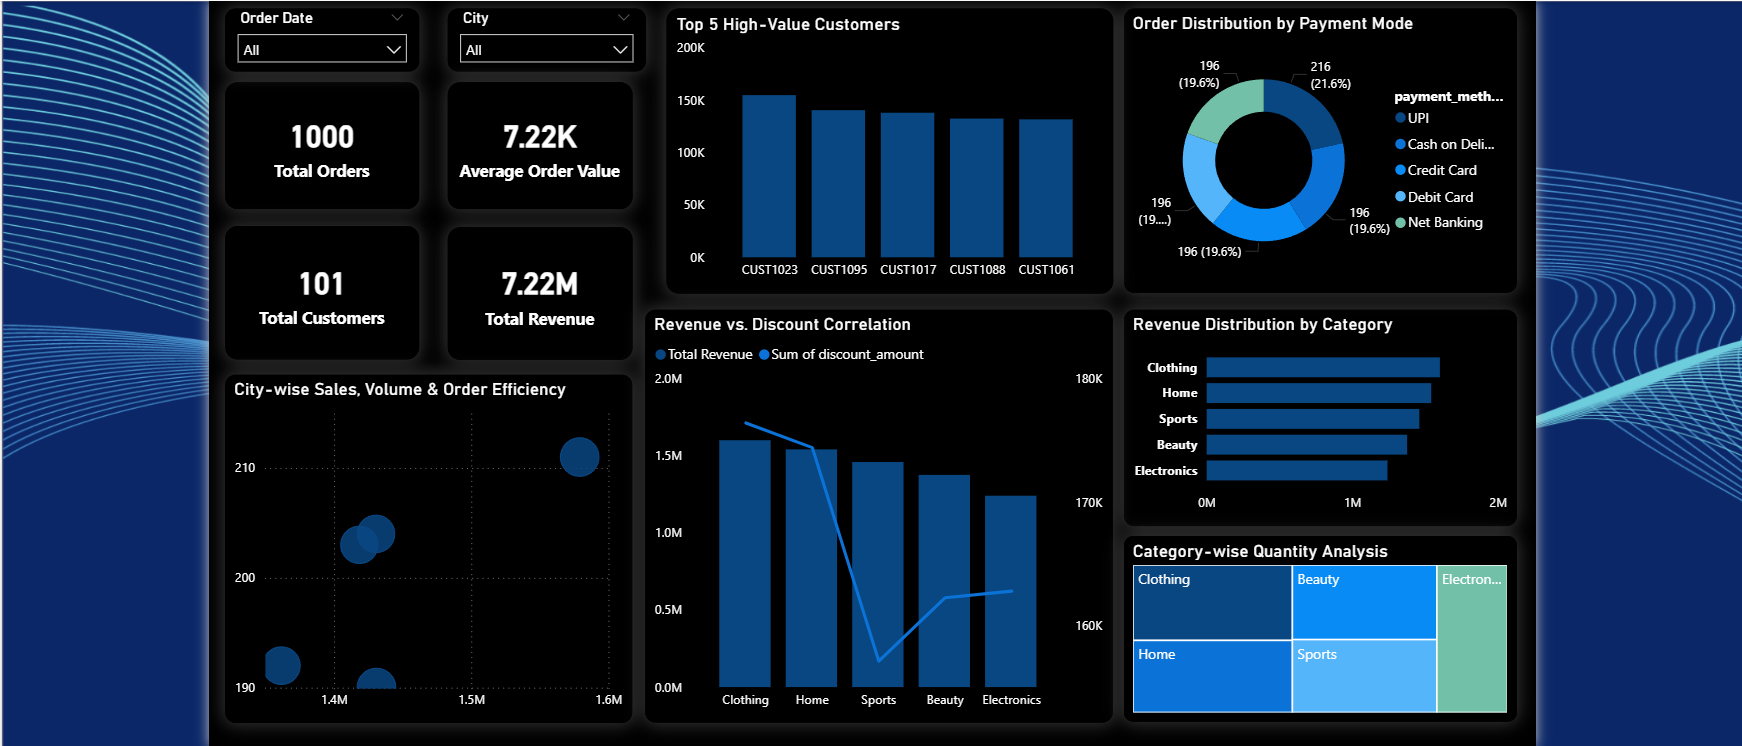

Layout of this report page (visuals, bound fields, positions):
{"tool":"powerbi","page":{"name":"Page 1","canvas":[1280,720],"ordinal":0},"visuals":[{"type":"card","fields":{"Values":["Orders.total_revenue"]},"box":[230,218.6,178.2,127.6],"z":0},{"type":"card","fields":{"Values":["Orders.total_orders"]},"box":[15.2,78.4,187,122.6],"z":1000},{"type":"card","fields":{"Values":["Orders.total_customers"]},"box":[15.2,217.4,187,128.9],"z":2000},{"type":"barChart","title":"Revenue Distribution by Category","fields":{"Category":["Orders.product_category"],"Y":["Sum(Orders.final_amount)"]},"box":[883.4,298.3,379.1,208.5],"z":3000},{"type":"scatterChart","title":"City-wise Sales, Volume & Order Efficiency","fields":{"X":["All_Measure.Total Revenue"],"Category":["Orders.city"],"Y":["All_Measure.Total Orders"],"Size":["All_Measure.Average Order Value"]},"box":[15.2,360.2,393.1,336.2],"z":4000},{"type":"donutChart","title":"Order Distribution by Payment Mode","fields":{"Category":["Orders.payment_method"],"Y":["All_Measure.total_orders"]},"box":[883.4,7.6,379.1,274.3],"z":5000},{"type":"columnChart","title":"Top 5 High-Value Customers","fields":{"Category":["Orders.customer_id"],"Y":["All_Measure.Customer_Spend"]},"box":[441.1,7.6,431,275.5],"z":6000},{"type":"slicer","fields":{"Values":["Orders.city"]},"box":[230,7.6,190.8,60.7],"z":7000},{"type":"lineStackedColumnComboChart","title":"Revenue vs. Discount Correlation","fields":{"Category":["Orders.product_category"],"Y":["All_Measure.Total Revenue"],"Y2":["Sum(Orders.discount_amount)"]},"box":[420.9,298.3,451.2,398.1],"z":8000},{"type":"slicer","fields":{"Values":["Orders.order_date"]},"box":[15.2,7.6,187,60.7],"z":9000},{"type":"card","fields":{"Values":["All_Measure.Average Order Value"]},"box":[230,78.4,178.2,122.6],"z":10000},{"type":"treemap","title":"Category-wise Quantity Analysis","fields":{"Values":["Sum(Orders.quantity)"],"Group":["Orders.product_category"]},"box":[883.4,516.9,379.1,179.5],"z":11000}]}

Visuals, with their boxes on the page's 1280x720 design canvas (x1, y1, x2, y2). These are canvas units, not pixel positions in the 1742x746 screenshot, which may show the page scaled, cropped or inside an application window:
card - Orders.total_revenue: bbox(230, 219, 408, 346)
card - Orders.total_orders: bbox(15, 78, 202, 201)
card - Orders.total_customers: bbox(15, 217, 202, 346)
"Revenue Distribution by Category" barChart: bbox(883, 298, 1262, 507)
"City-wise Sales, Volume & Order Efficiency" scatterChart: bbox(15, 360, 408, 696)
"Order Distribution by Payment Mode" donutChart: bbox(883, 8, 1262, 282)
"Top 5 High-Value Customers" columnChart: bbox(441, 8, 872, 283)
slicer - Orders.city: bbox(230, 8, 421, 68)
"Revenue vs. Discount Correlation" lineStackedColumnComboChart: bbox(421, 298, 872, 696)
slicer - Orders.order_date: bbox(15, 8, 202, 68)
card - All_Measure.Average Order Value: bbox(230, 78, 408, 201)
"Category-wise Quantity Analysis" treemap: bbox(883, 517, 1262, 696)
